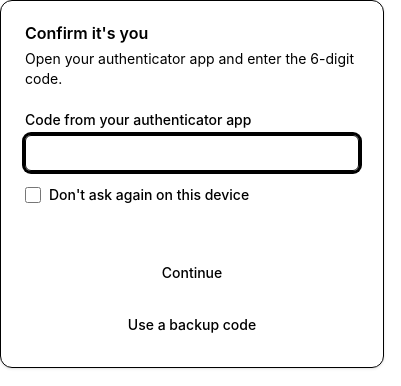
TwoFactorChallenge › switches to a backup code and shows wrong codes in the live region
Click the button "Use a backup code": (192, 325) [25, 307, 359, 343]
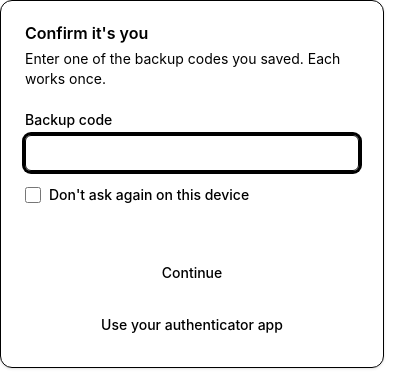
In the field labelled "Backup code": (192, 153) [25, 135, 359, 171], type "aaaa-bbbb"
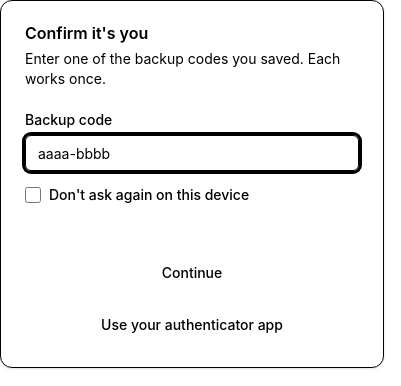
Click the button "Continue": (192, 273) [25, 255, 359, 291]
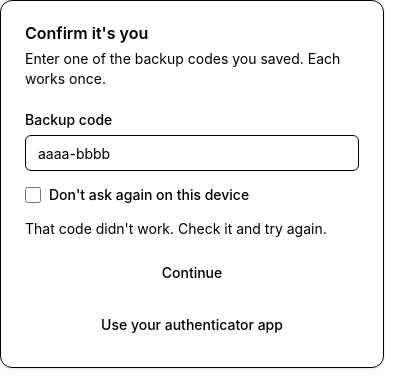
Check: the message shows "didn't work", box [25, 220, 327, 237]
